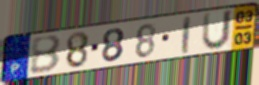8: (65, 30, 90, 69), (101, 27, 126, 63), (134, 23, 157, 59)
B: (29, 34, 63, 76)
I: (182, 15, 193, 56)
U: (200, 8, 235, 51)
